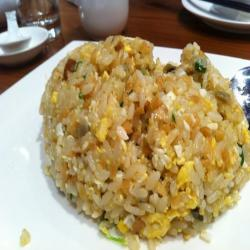rice: (40, 34, 250, 242)
